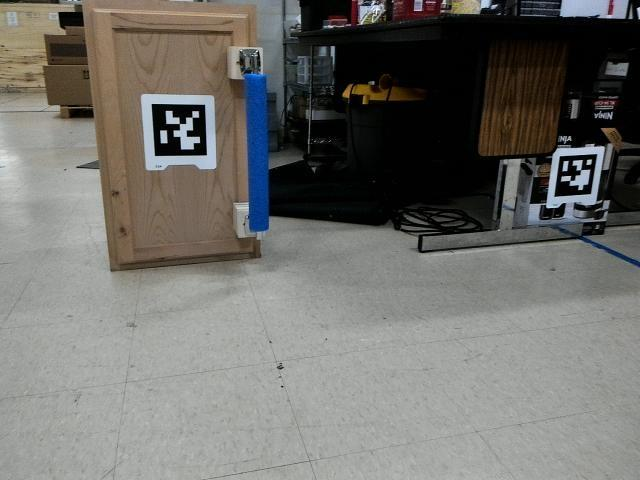noodle_handle: (239, 66, 273, 239)
